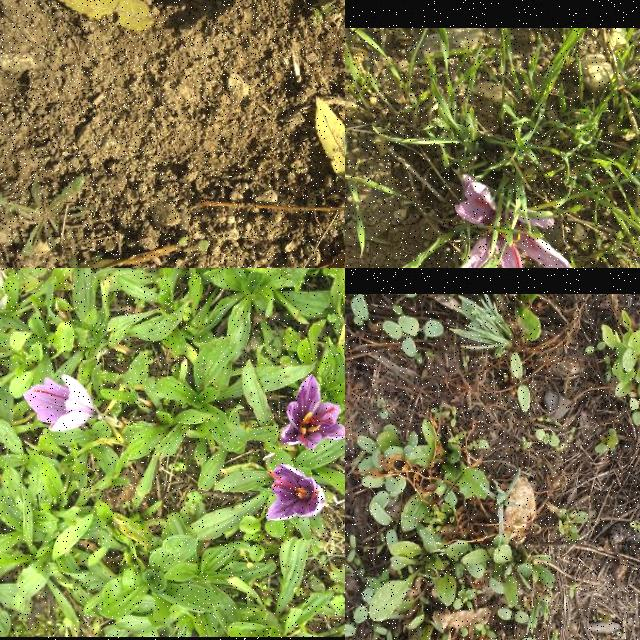flower: (461, 183, 579, 268), (282, 376, 345, 449), (25, 374, 95, 432), (269, 466, 327, 522)
